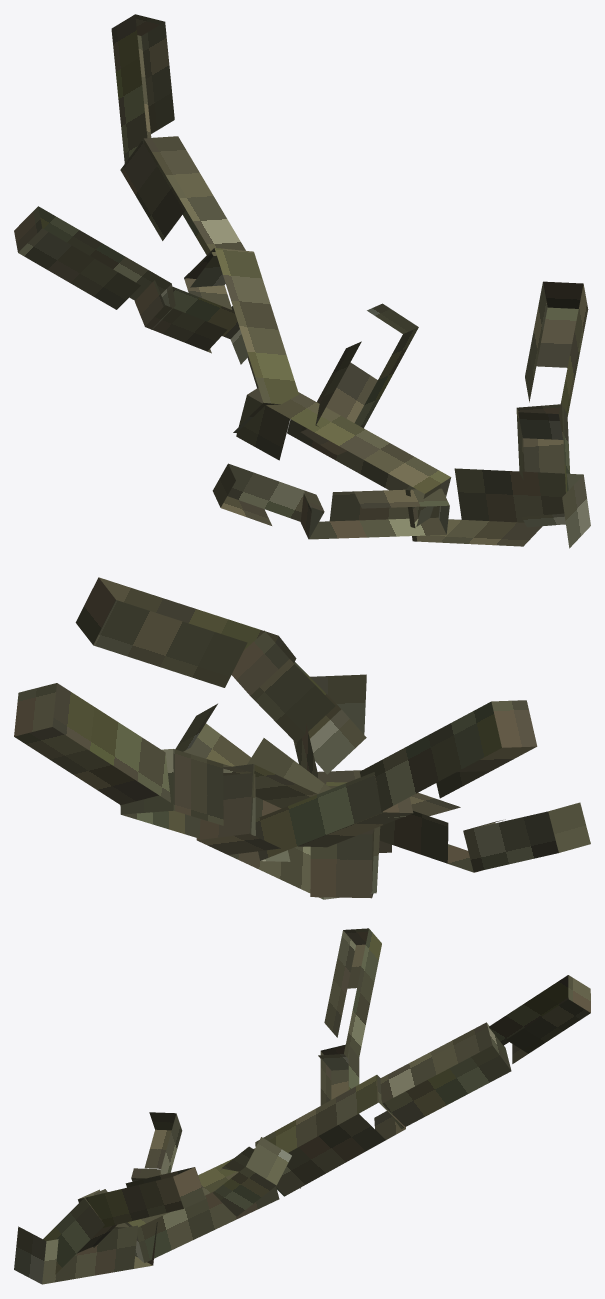
The model's file is maple_twig_branch_up_2.obj.
3 renders of one model, top to bottom at view 1: azimuth 30°, elevation 25°; view 2: azimuth 150°, elevation 25°; view 3: azimuth 270°, elevation 25°, orthographic. The views are drawn at different scales.
Visible parts, largest first — view 1: cube; view 2: cube; view 3: cube.
Part boxes in pixels (box(x1,y1,x2,y2)): cube: box(14, 14, 590, 548); cube: box(14, 577, 590, 899); cube: box(14, 928, 590, 1284).
Size of the model in its own units: 2.22 by 1.51 by 2.9.
